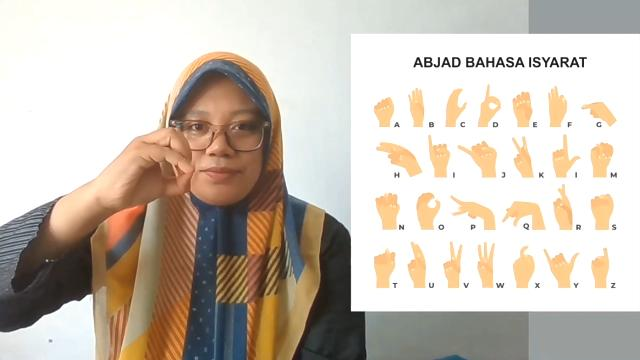O: (93, 124, 197, 214)
